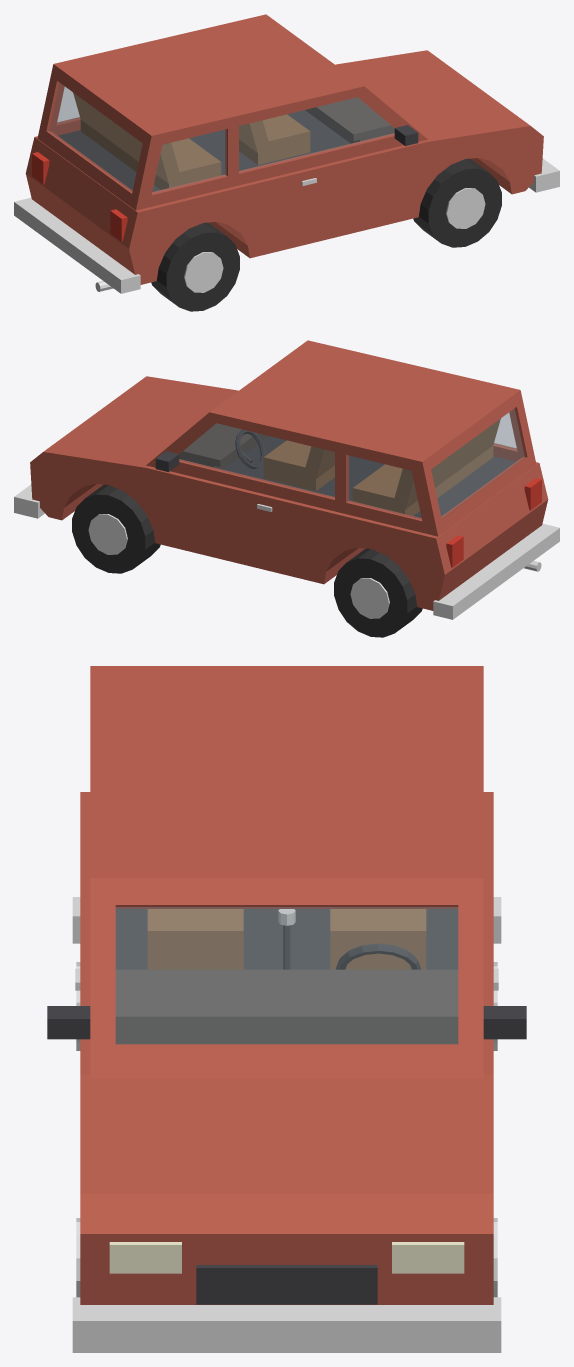
Rendered from hatch.glb.
3 renders of one model, top to bottom at view 1: azimuth 30°, elevation 25°; view 2: azimuth 150°, elevation 25°; view 3: azimuth 270°, elevation 25°, orthographic. The views are drawn at different scales.
Parts seen in each view (by area): view 1: Body.002, Glass.002, Tire.002, Seat.002, Chrome.002, Dark.002, Dash.002, Tail.002; view 2: Body.002, Glass.002, Tire.002, Seat.002, Chrome.002, Dark.002, Dash.002, Tail.002; view 3: Body.002, Glass.002, Dash.002, Chrome.002, Dark.002, Seat.002, Headlight.002.
Part boxes in pixels (x1,y1,x2,y2): Body.002: [25, 14, 543, 284]; Glass.002: [49, 83, 394, 193]; Tire.002: [151, 158, 501, 311]; Seat.002: [73, 92, 310, 189]; Chrome.002: [14, 158, 559, 293]; Dark.002: [58, 110, 418, 191]; Dash.002: [305, 97, 394, 143]; Tail.002: [32, 152, 127, 241]; Body.002: [30, 340, 548, 610]; Glass.002: [179, 409, 524, 519]; Tire.002: [72, 484, 422, 637]; Seat.002: [263, 418, 500, 515]; Chrome.002: [14, 484, 559, 619]; Dark.002: [155, 429, 515, 517]; Dash.002: [179, 423, 268, 469]; Tail.002: [446, 478, 541, 567]; Body.002: [80, 666, 493, 1304]; Glass.002: [116, 907, 457, 1043]; Dash.002: [115, 969, 458, 1044]; Chrome.002: [72, 897, 501, 1352]; Dark.002: [47, 909, 526, 1304]; Seat.002: [147, 909, 426, 969]; Headlight.002: [109, 1242, 464, 1273].
Size of the model in its own units: 4.03 by 1.62 by 1.9.
